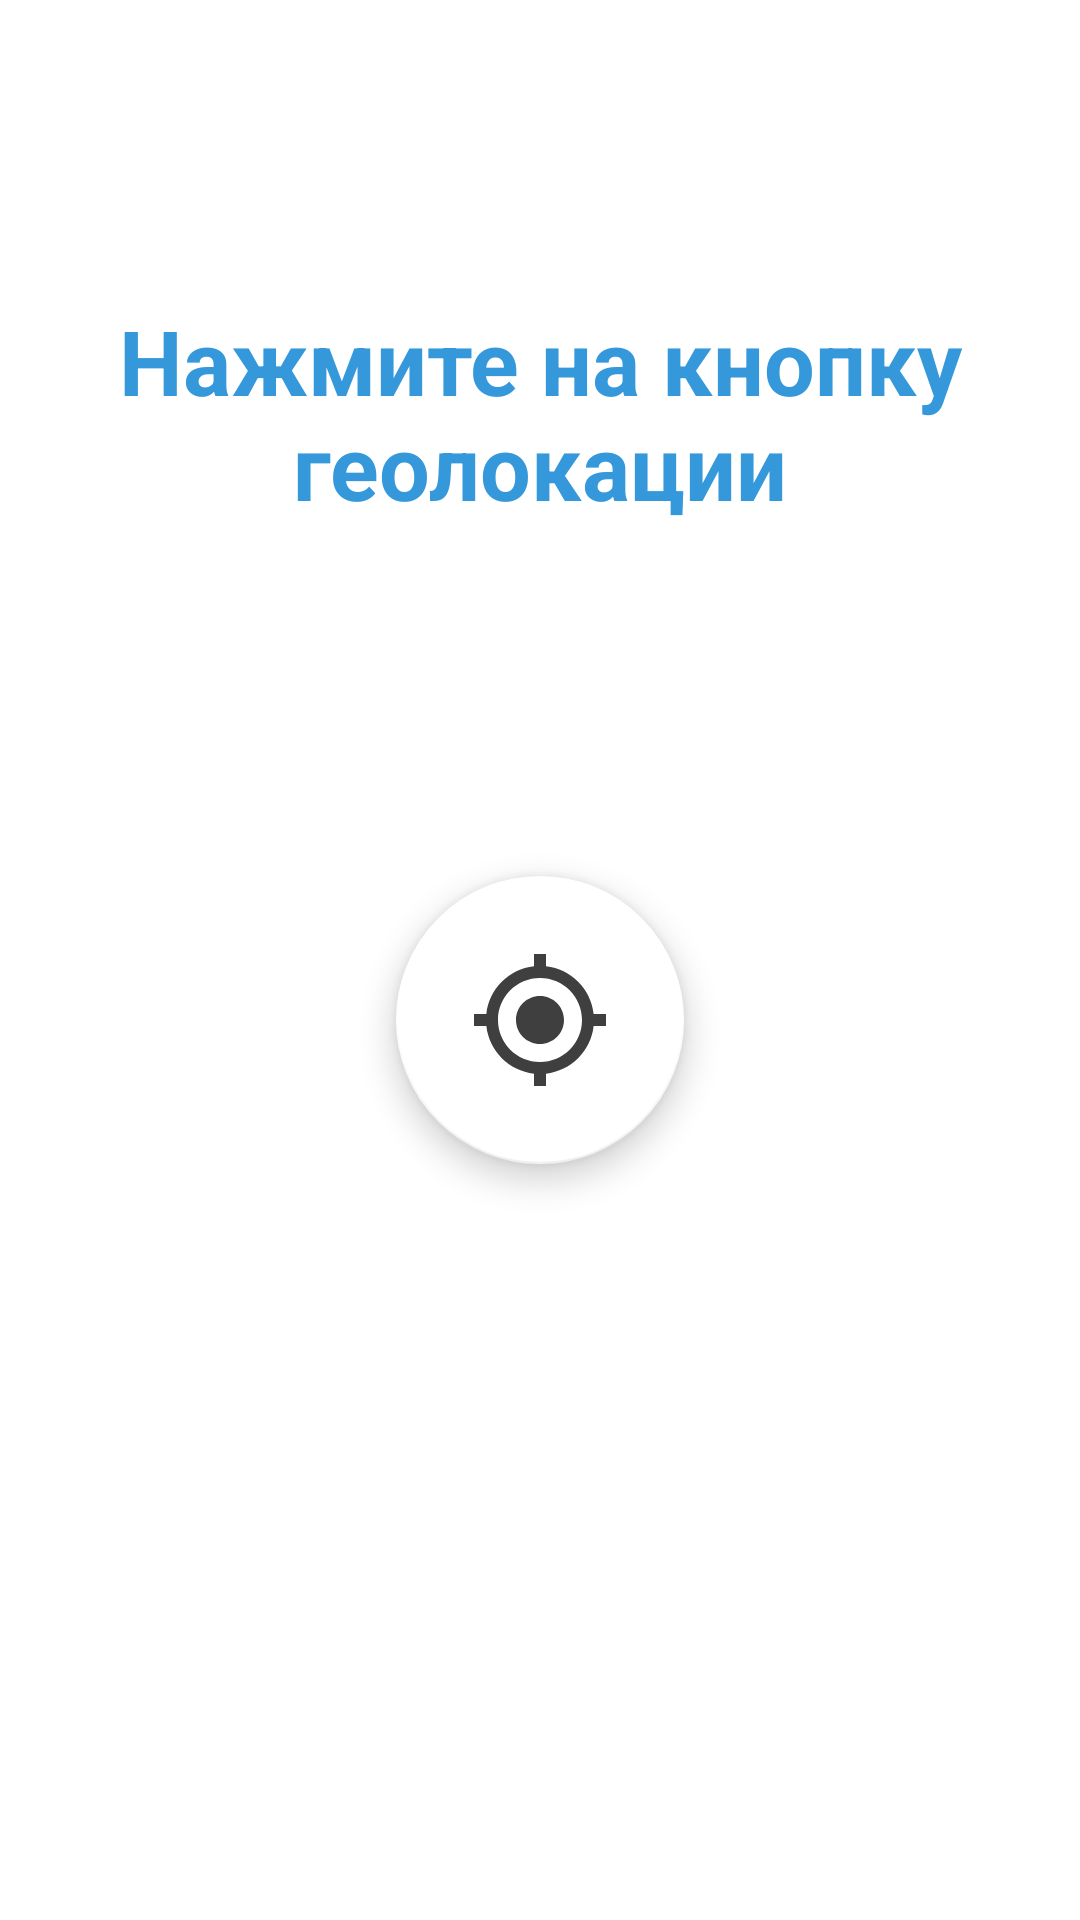

Named icons in this screenshot (1080 × 1920) and their centers, point (x, y):
location: point (540, 1020)
